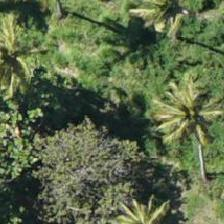coconut_tree: (154, 73, 223, 163), (124, 0, 214, 55), (0, 0, 54, 84)
